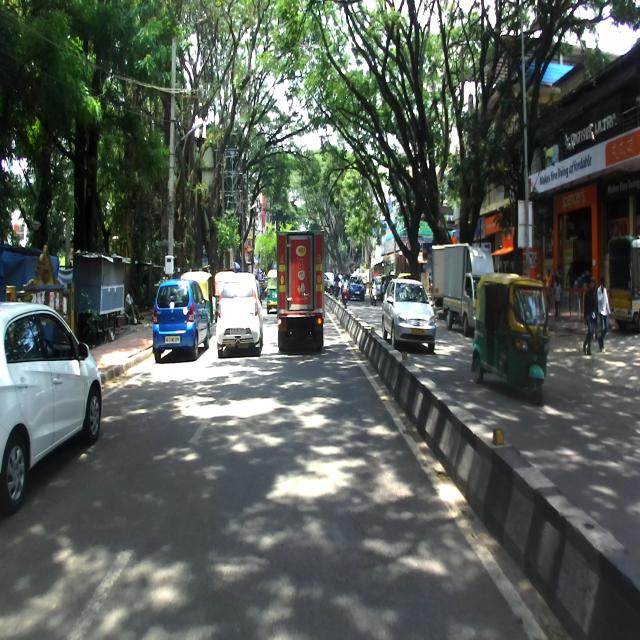car ahead at: (0, 295, 106, 498), (152, 269, 208, 364), (217, 273, 262, 356)
truck ahead at: (272, 230, 328, 357)
